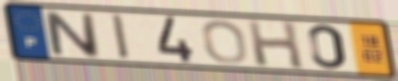0: (305, 23, 347, 71)
4: (155, 14, 196, 64)
H: (245, 18, 308, 71)
I: (109, 12, 133, 61)
N: (40, 9, 104, 59)
O: (200, 19, 251, 66)
